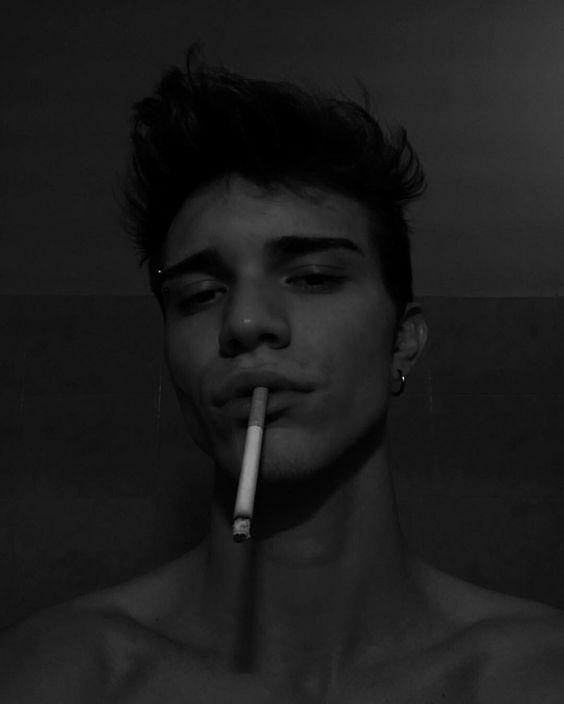cigarette: (232, 385, 270, 543)
